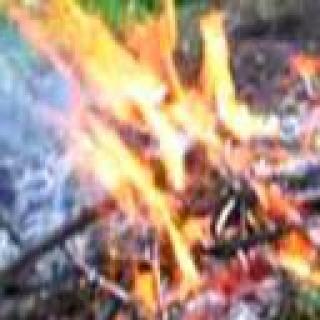fire: (48, 9, 320, 298)
